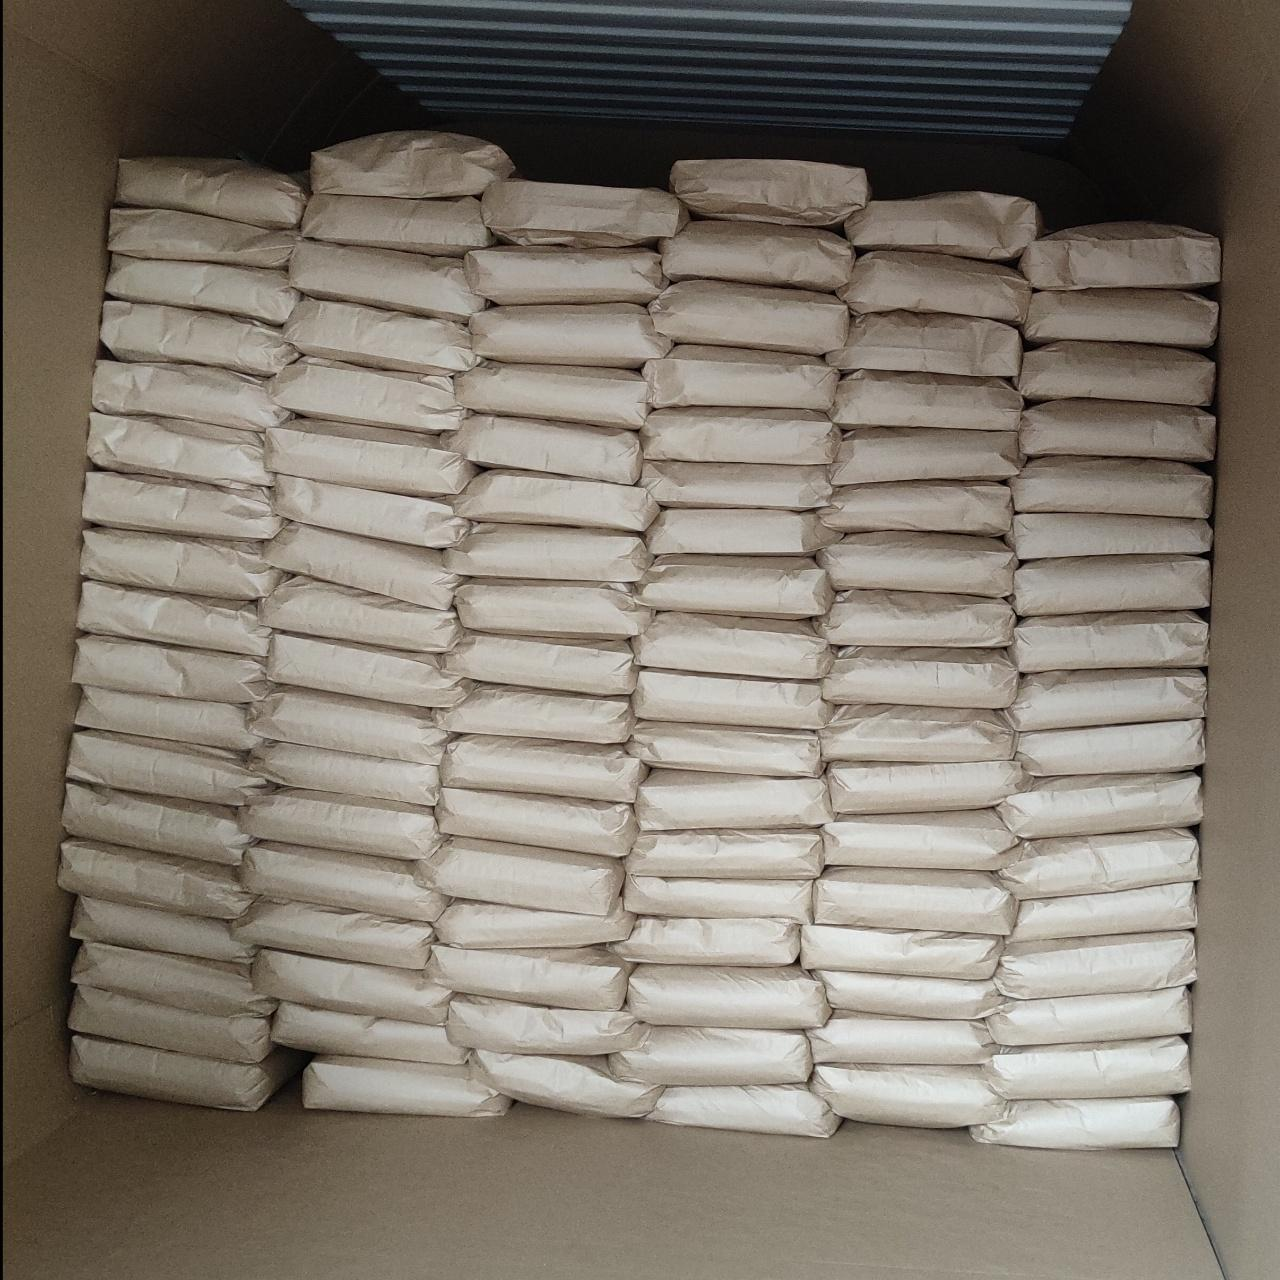sack: (70, 1036, 298, 1110), (264, 420, 475, 497), (240, 842, 447, 920), (264, 525, 458, 608), (418, 837, 624, 915), (59, 837, 254, 919), (69, 985, 272, 1062), (62, 783, 252, 865), (101, 300, 298, 377), (290, 240, 484, 318), (72, 942, 274, 1016), (260, 577, 459, 652), (649, 280, 849, 354), (78, 581, 270, 658), (68, 730, 265, 805), (252, 949, 448, 1024), (284, 298, 477, 374), (269, 357, 463, 432), (267, 633, 463, 707), (80, 527, 281, 599), (92, 360, 289, 433), (252, 689, 445, 763), (272, 476, 467, 548), (998, 829, 1198, 899), (837, 251, 1030, 323), (106, 254, 299, 326), (481, 179, 688, 246), (813, 867, 1016, 935), (240, 790, 439, 859), (661, 221, 854, 292), (310, 131, 514, 198), (998, 772, 1202, 839), (436, 788, 637, 856), (232, 901, 433, 969), (116, 158, 308, 229), (994, 931, 1194, 999), (845, 191, 1041, 260), (440, 737, 647, 802), (87, 412, 271, 485), (1020, 222, 1220, 289), (426, 944, 632, 1009), (671, 159, 869, 226), (632, 612, 833, 678), (817, 531, 1017, 597), (83, 472, 280, 539), (470, 303, 671, 368), (72, 636, 267, 703), (451, 416, 642, 484), (627, 964, 829, 1028), (643, 345, 838, 411), (456, 362, 648, 429), (470, 1050, 662, 1117), (982, 1037, 1189, 1099), (303, 1056, 510, 1117), (827, 311, 1021, 376), (1019, 341, 1213, 406), (453, 471, 658, 532), (810, 1064, 1006, 1127), (631, 669, 832, 730), (1009, 457, 1212, 517), (610, 1025, 812, 1085), (442, 632, 634, 695), (823, 646, 1018, 708), (637, 769, 832, 831), (1010, 612, 1208, 673), (1008, 670, 1206, 731), (443, 524, 651, 582), (301, 194, 495, 256), (1020, 399, 1214, 461), (272, 1002, 466, 1064), (822, 809, 1018, 870), (74, 687, 260, 751), (251, 743, 439, 806), (639, 557, 833, 618), (446, 994, 639, 1055), (108, 208, 300, 269), (1012, 557, 1209, 616), (72, 897, 253, 961), (465, 247, 668, 304), (987, 987, 1190, 1044), (831, 370, 1023, 430), (1023, 290, 1217, 349), (640, 407, 840, 464), (434, 686, 634, 743), (831, 427, 1022, 486), (454, 581, 650, 638), (819, 705, 1014, 762), (801, 924, 1003, 979), (820, 590, 1014, 647), (626, 722, 822, 777), (1015, 719, 1204, 776), (1010, 883, 1196, 940), (818, 482, 1013, 536), (827, 760, 1024, 813), (971, 1097, 1179, 1147), (646, 1085, 839, 1138), (807, 1010, 995, 1064), (640, 459, 831, 510), (432, 900, 633, 948), (624, 872, 811, 922), (625, 831, 822, 878), (1007, 514, 1212, 559), (612, 916, 800, 965), (646, 509, 841, 556), (812, 971, 1001, 1019)
